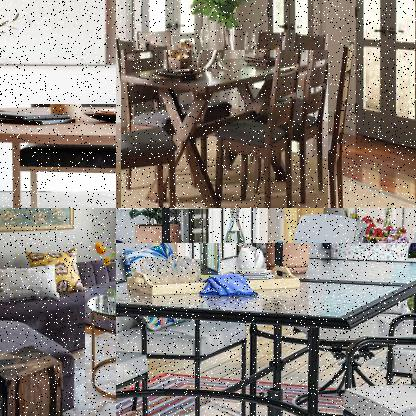table: (116, 243, 415, 415), (120, 50, 329, 207), (0, 104, 115, 207), (84, 289, 115, 404)
